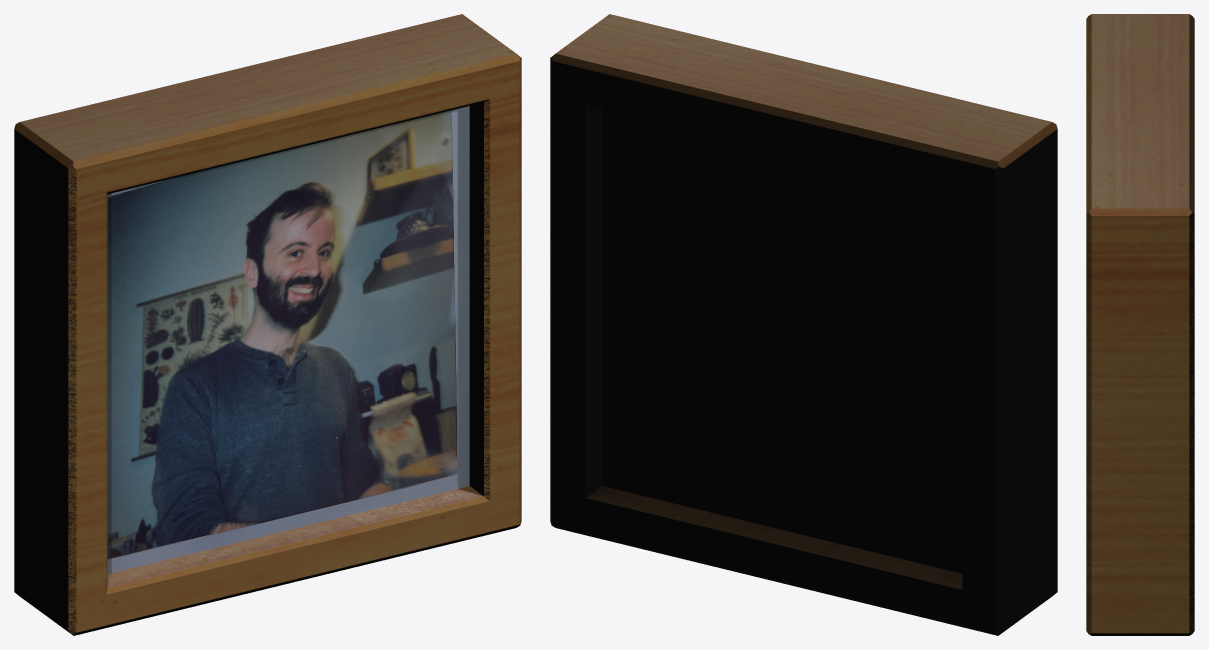
The model's file is portrait.glb.
The picture shows the model from 3 angles, left to right: view 1: azimuth 30°, elevation 25°; view 2: azimuth 150°, elevation 25°; view 3: azimuth 270°, elevation 25°; orthographic projection. The views are drawn at different scales.
Parts seen in each view (by area): view 1: Portrait; view 2: Portrait; view 3: Portrait.
Part boxes in pixels (left/top/right/bottom): Portrait: left=14, top=14, right=521, bottom=635; Portrait: left=550, top=14, right=1057, bottom=635; Portrait: left=1086, top=14, right=1194, bottom=635.
Size of the model in its own units: 1.22 by 1.22 by 0.2805.
1 material, 1 textured.
